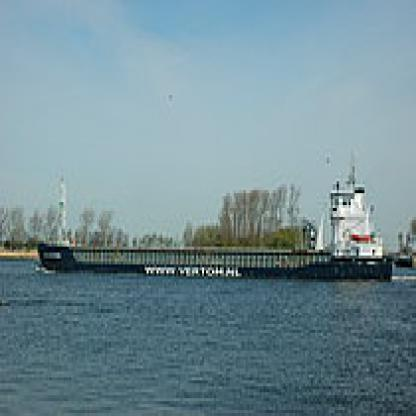Container Ship: (36, 149, 394, 280)
